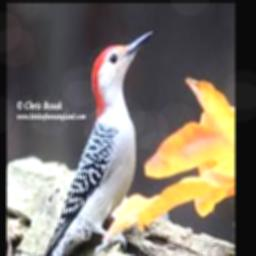Woodpecker: (27, 29, 153, 256)
